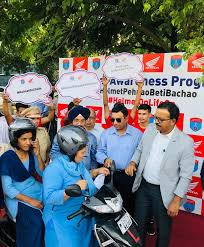helmet: (52, 122, 99, 170), (3, 115, 39, 155)
